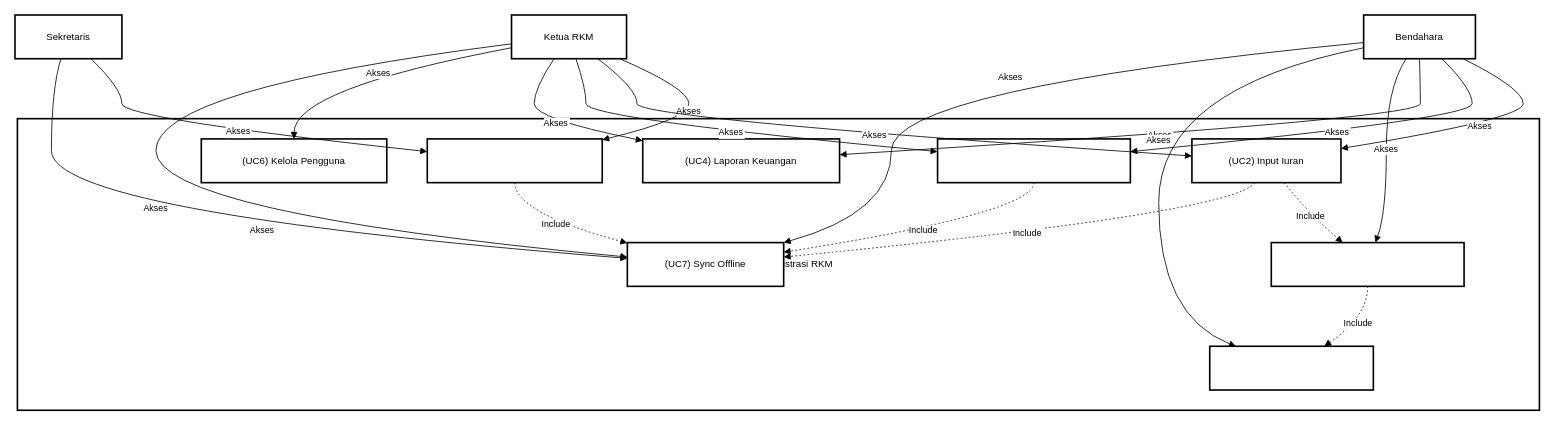
The diagram is 1554 pixels wide and 424 high, and some of its shapes have lost their labels. Here are the shapes that lost their labels. From the top down, the centre of each, then its label:
(514,160): (UC1) Kelola Anggota
(1033,160): (UC3) Input Pengeluaran
(1367,264): (UC8) Bukti Pembayaran
(1291,367): (UC5) Notifikasi WA
